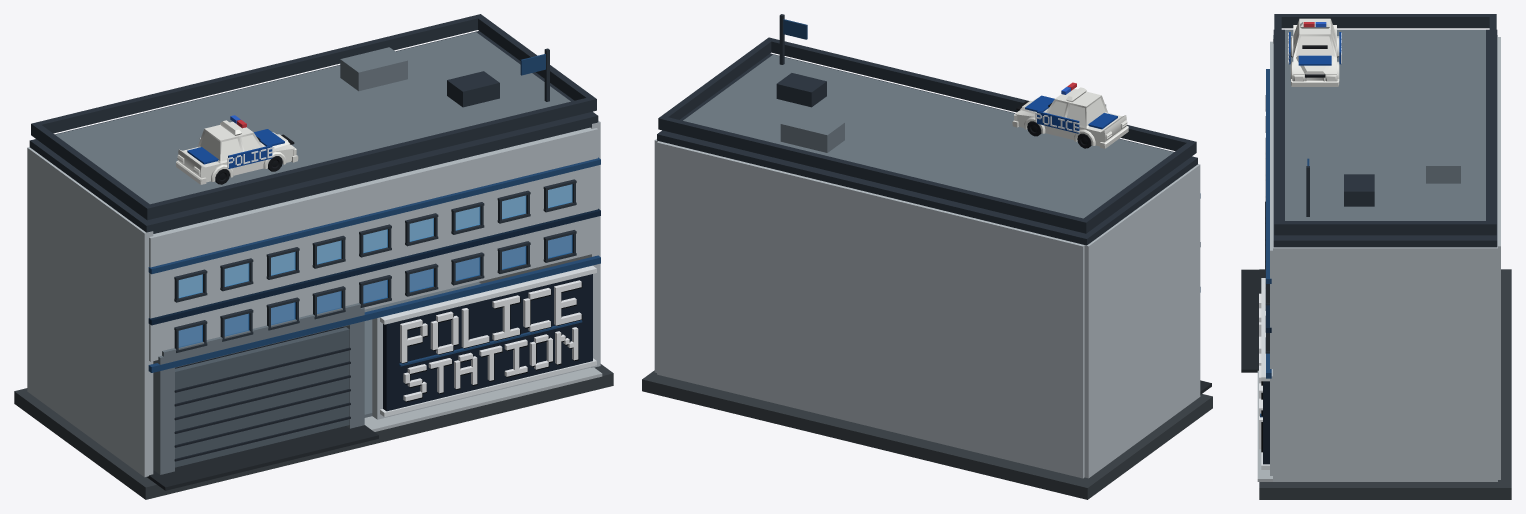
The model's file is police-station-building.glb.
3 views of the same model, side by side, from view 1: azimuth 30°, elevation 25°; view 2: azimuth 150°, elevation 25°; view 3: azimuth 270°, elevation 25° (orthographic). The views are drawn at different scales.
Visible parts, largest first — view 1: policeStationFrontUpperWall, policeStationRoofCap, policeStationLeftWall, police_station_building, policeStationGarageDoorPanel, policeStationSignPanel, policeStationRoofDeck, policeStationSlab, policeStationGarageDriveway, policeStationBlueBandGround, policeStationBlueBandSecond, policeStationBlueBandThird (+12 smaller); view 2: policeStationBackWall, policeStationRoofCap, policeStationLeftWall, police_station_building, policeStationSlab, policeStationRoofDeck, car_police, policeStationRooftopUnitLeft, policeStationRooftopUnitRight, policeStationRightWall; view 3: policeStationRightWall, policeStationRoofCap, police_station_building, policeStationSlab, policeStationRoofDeck, car_police, policeStationGarageDriveway, policeStationBackWall, policeStationRooftopUnitLeft, policeStationFrontUpperWall, policeStationRooftopUnitRight, policeStationBlueBandThird (+5 smaller).
Boxes of the visible parts, x1,y1,x2,y2 form: policeStationFrontUpperWall: (149,127,597,361); policeStationRoofCap: (55,32,570,204); policeStationLeftWall: (27,147,153,477); police_station_building: (31,14,596,352); policeStationGarageDoorPanel: (175,327,349,467); policeStationSignPanel: (383,274,592,411); policeStationRoofDeck: (29,31,598,233); policeStationSlab: (14,364,613,499); policeStationGarageDriveway: (147,425,378,490); policeStationBlueBandGround: (148,255,600,372); policeStationBlueBandSecond: (148,208,600,325); policeStationBlueBandThird: (148,157,600,274); policeStationBackWall: (657,141,1084,478); policeStationRoofCap: (683,54,1173,218); policeStationLeftWall: (1084,164,1200,478); police_station_building: (658,37,1196,233); policeStationSlab: (642,370,1212,499); policeStationRoofDeck: (657,53,1197,245); car_police: (1012,87,1128,148); policeStationRooftopUnitLeft: (780,111,844,152); policeStationRooftopUnitRight: (776,73,826,107); policeStationRightWall: (654,139,662,372); policeStationRightWall: (1273,244,1497,481); policeStationRoofCap: (1285,29,1485,220); police_station_building: (1265,14,1496,353); policeStationSlab: (1259,269,1511,499); policeStationRoofDeck: (1273,29,1497,247); car_police: (1290,18,1339,86); policeStationGarageDriveway: (1241,269,1264,372); policeStationBackWall: (1497,37,1500,479); policeStationRooftopUnitLeft: (1426,142,1460,183); policeStationFrontUpperWall: (1270,41,1273,368); policeStationRooftopUnitRight: (1344,174,1374,206); policeStationBlueBandThird: (1266,69,1271,283).
Size of the model in its own units: 22.8 by 15.31 by 11.9.
